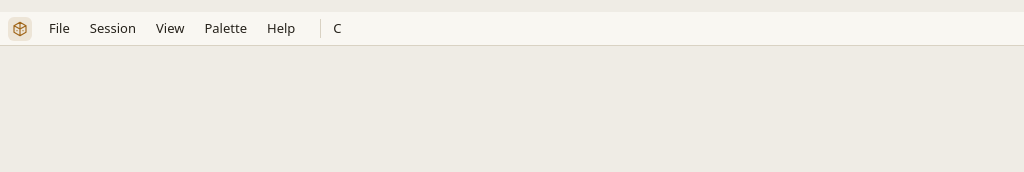
Test case: Help → Check for updates › reports being up to date
Click the button "Help" at (281, 28), box top-left (258, 16), bottom-right (304, 42)
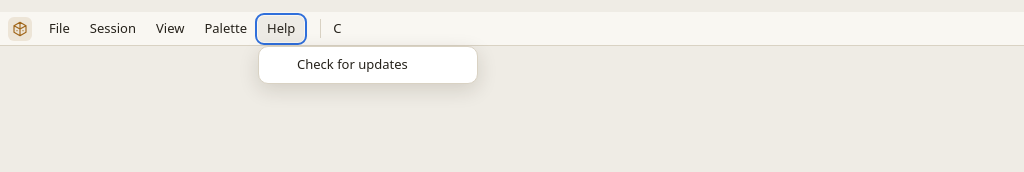
Click the menu item "Check for updates" at (368, 64), box top-left (263, 50), bottom-right (473, 78)
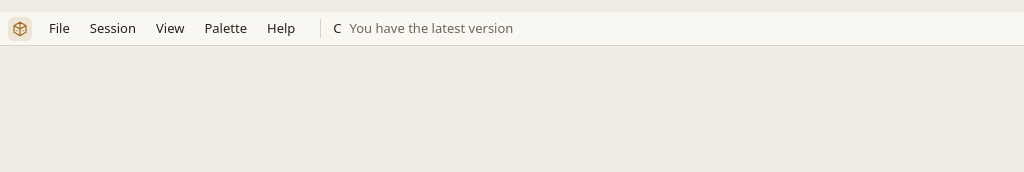
expect the message reads "You have the latest version": met, box top-left (350, 19), bottom-right (513, 37)
